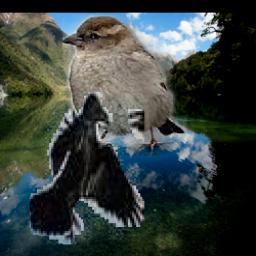Crow: (30, 92, 144, 244)
Sparrow: (61, 14, 185, 156)
